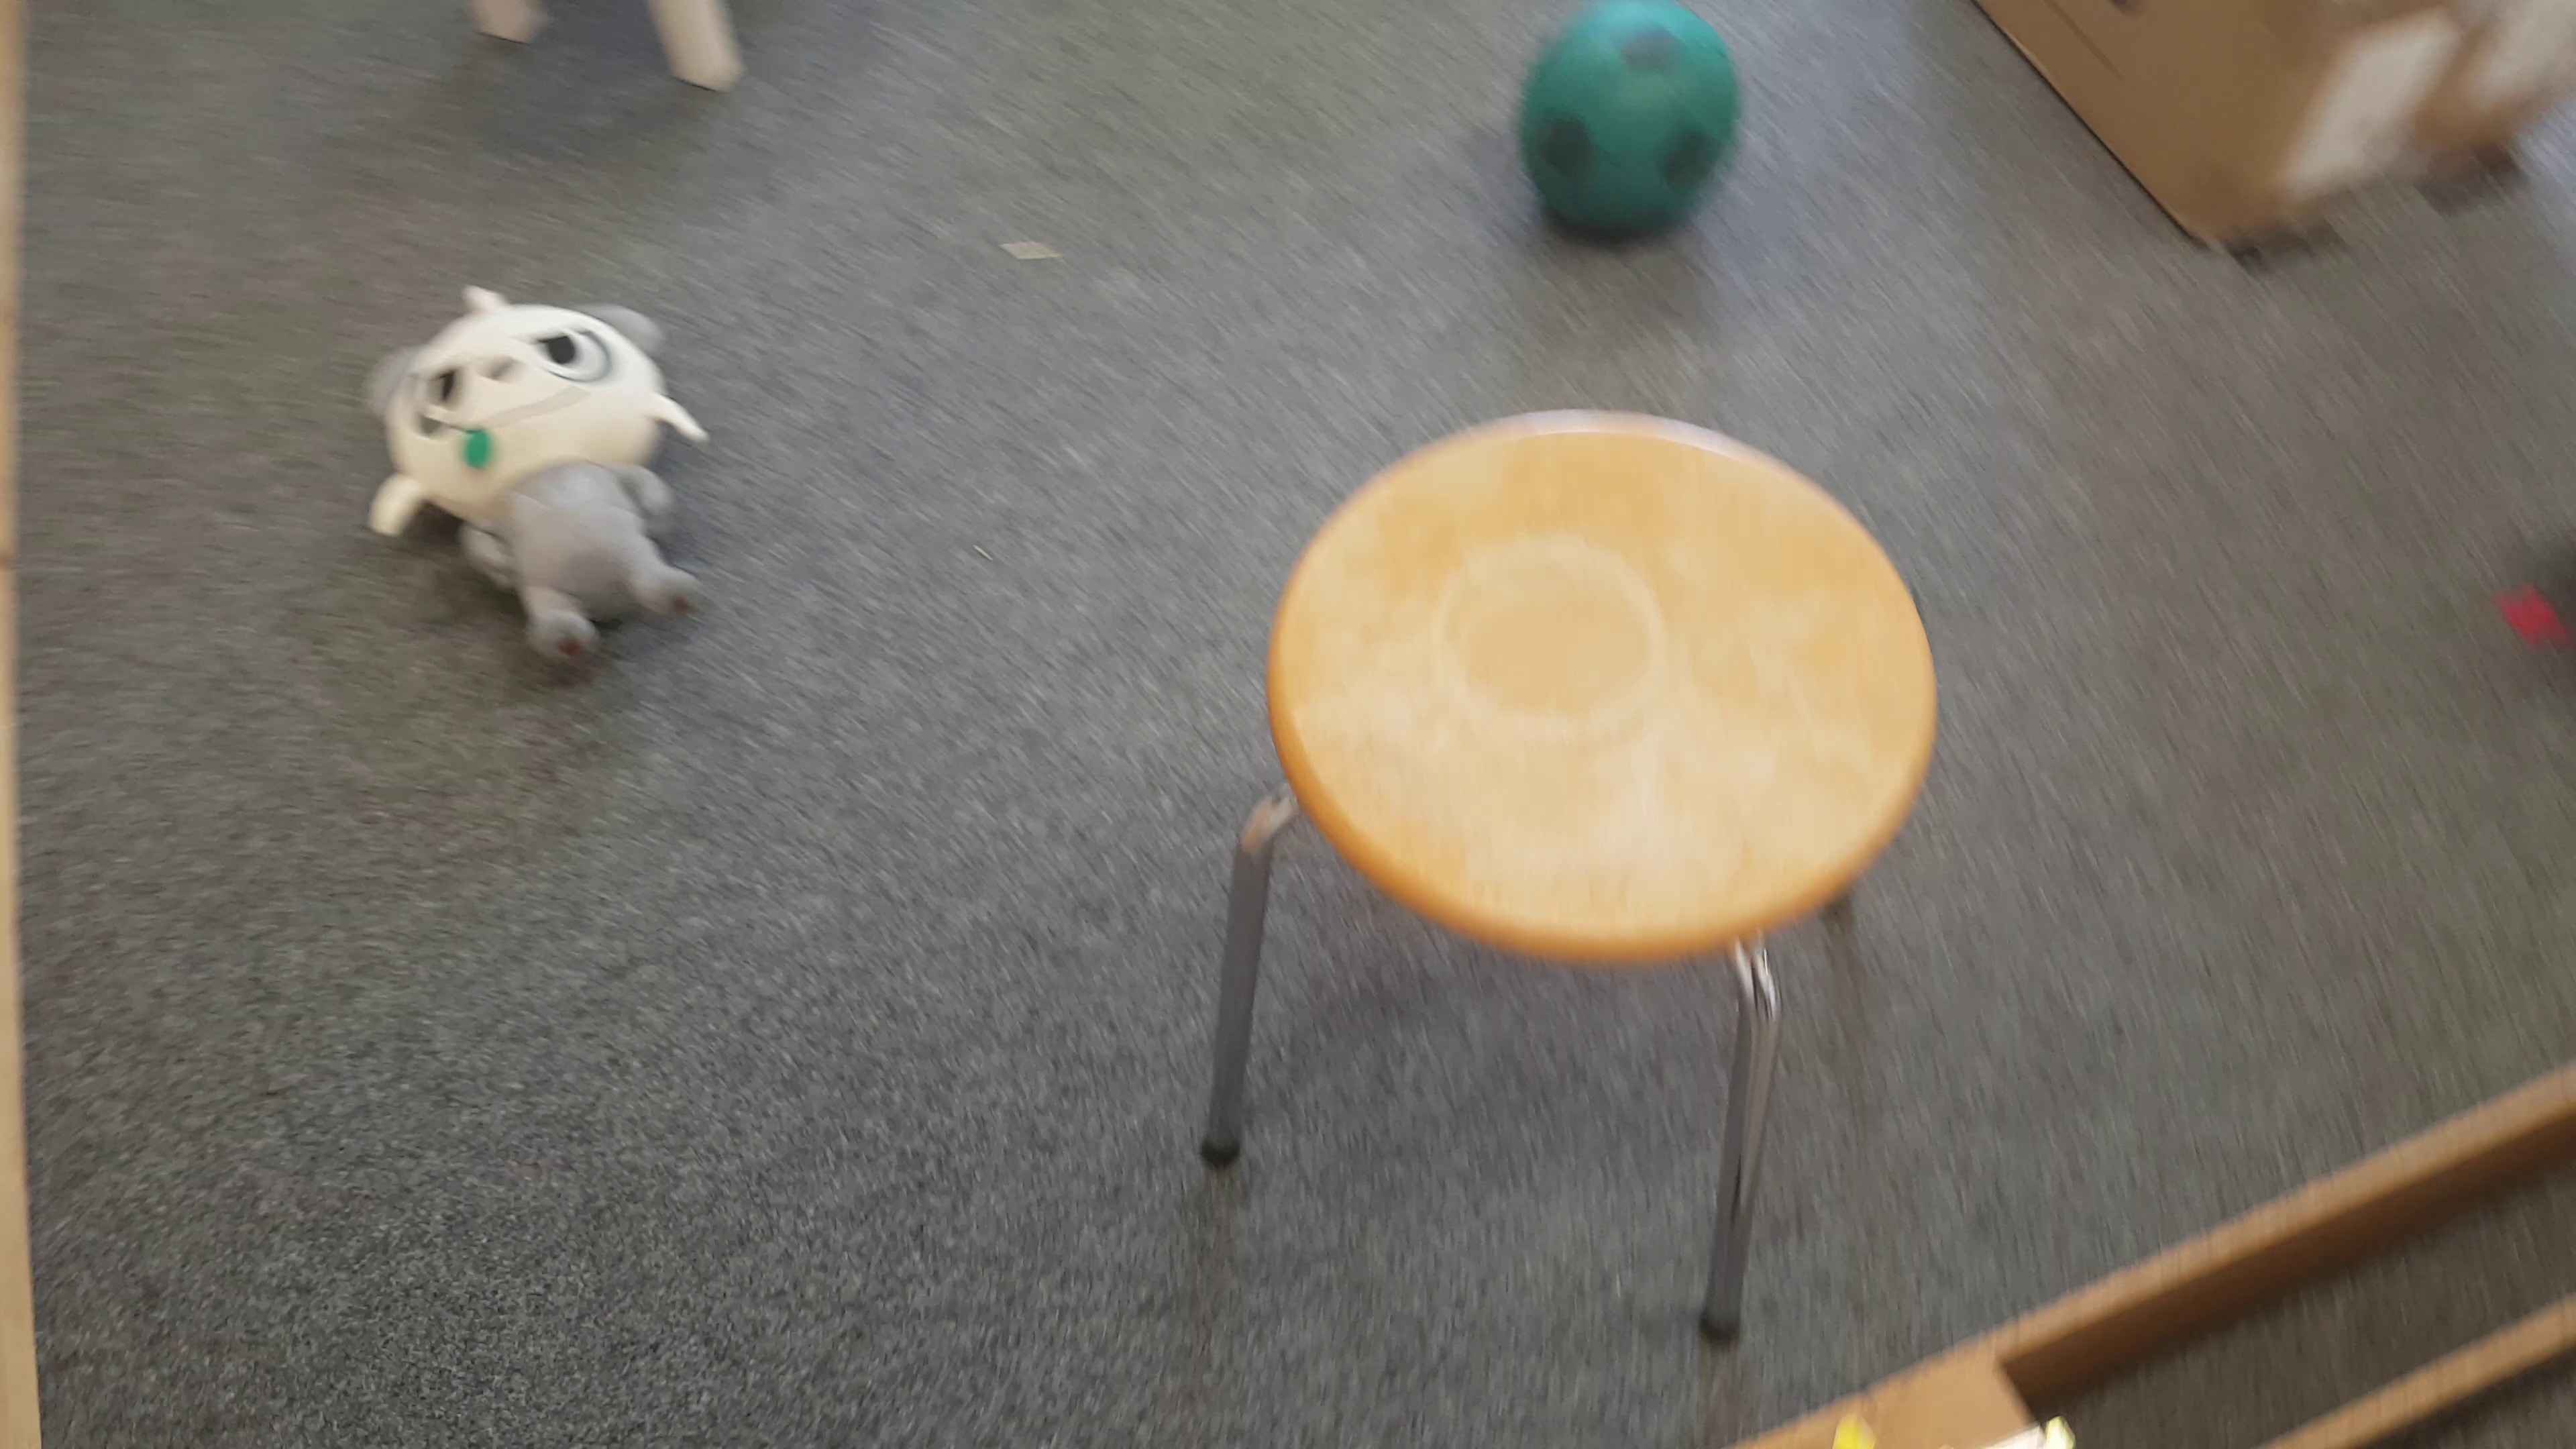grasp: (361, 283, 708, 665)
kick: (1518, 0, 1737, 251)
